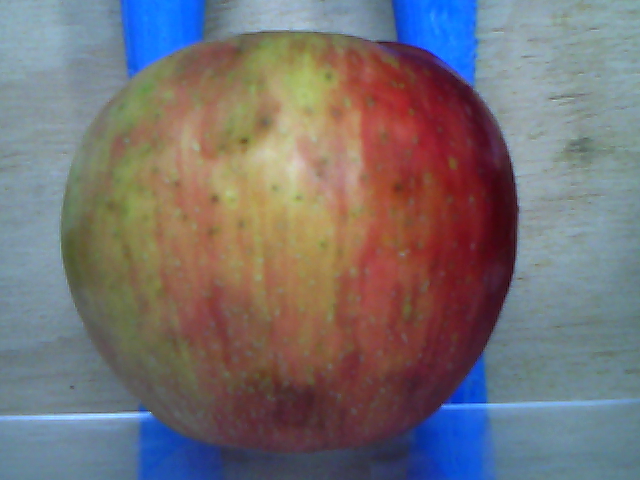bruise: (180, 43, 281, 163)
